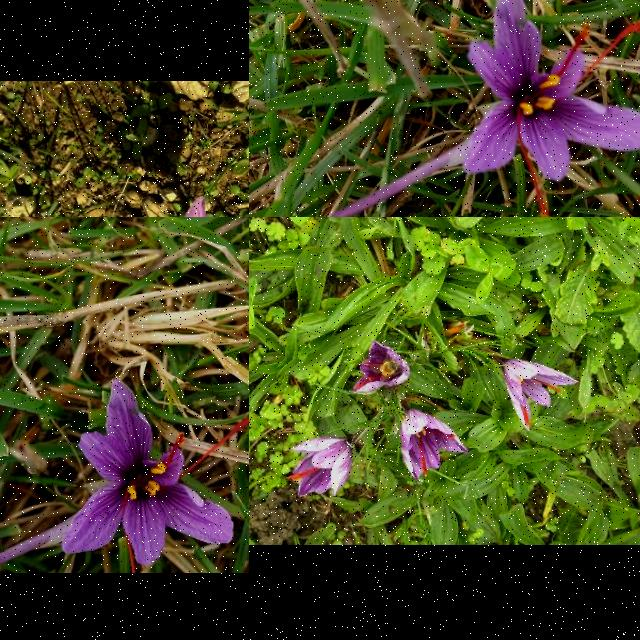flower: (460, 0, 640, 217), (62, 375, 249, 573), (504, 359, 578, 431), (400, 409, 470, 483), (286, 438, 352, 498), (354, 342, 412, 394)
